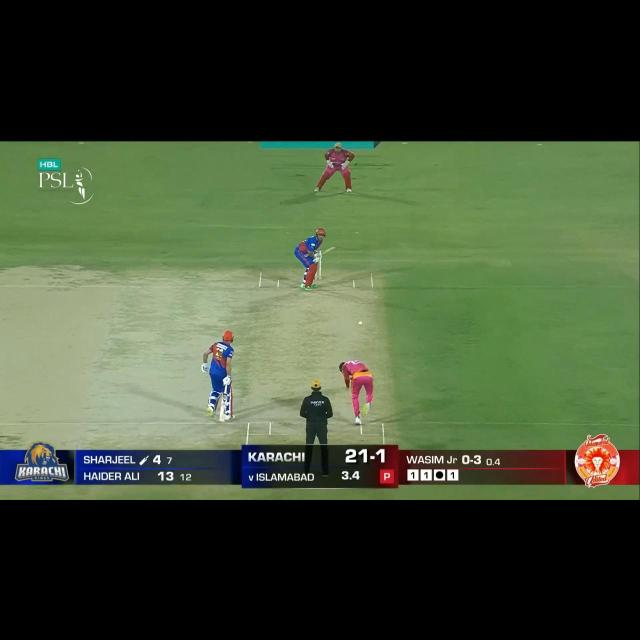bat: (220, 392, 230, 424), (316, 246, 337, 259)
toe: (218, 416, 225, 423), (332, 245, 338, 252)
